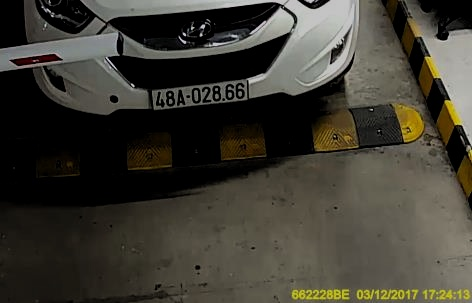plate: (150, 79, 249, 109)
